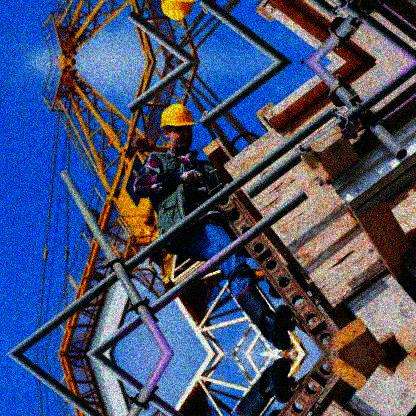helmet: (160, 102, 198, 146)
